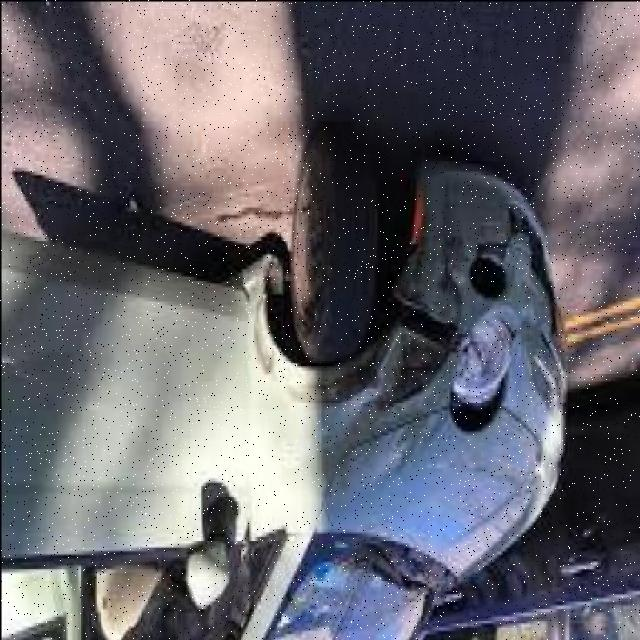damage: (332, 164, 558, 483)
